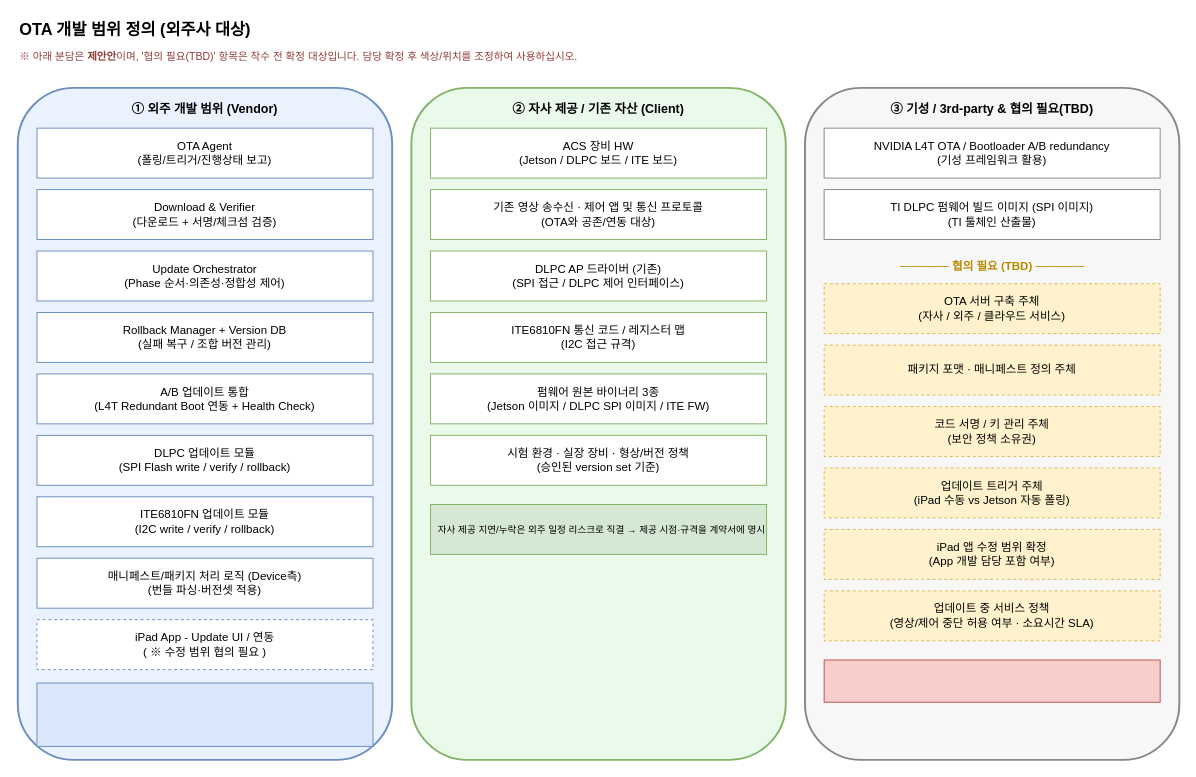
This 1196x777 diagram has some shape labels left out. Here are the shapes that lost their labels. From the top down, the centre of each, then its label:
At [991,680]: "TBD 항목은 견적·일정의 변동 요인 → 착수 전 필히 확정".
At [204,714]: "산출물 예 : 소스코드 · flash/빌드 스크립트 · OTA 패키지 규격서 · 통합/롤백 시험결과서 · 연동 가이드".
